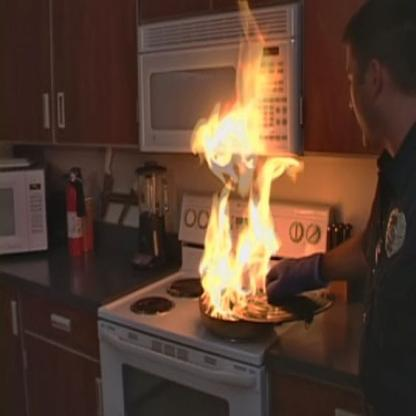fire: (189, 5, 314, 312)
